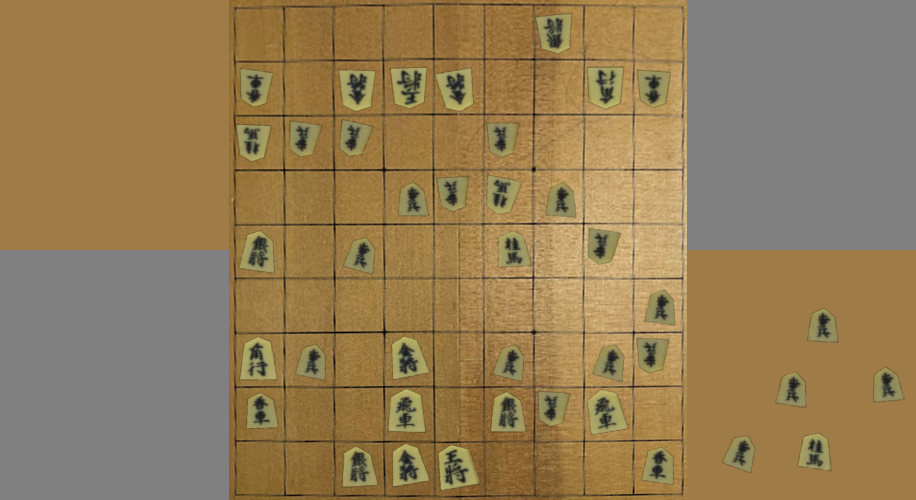A: (440, 446, 479, 489), (240, 337, 278, 381), (591, 391, 626, 433), (393, 338, 428, 379), (394, 445, 429, 486), (390, 390, 424, 431), (343, 448, 377, 486), (492, 393, 525, 431), (241, 232, 272, 272), (643, 448, 673, 484), (247, 394, 278, 428), (493, 346, 523, 381), (499, 233, 530, 266), (344, 239, 374, 273), (594, 346, 623, 381), (296, 346, 325, 380), (645, 291, 674, 325), (546, 184, 575, 217), (399, 184, 428, 216)
B: (437, 69, 472, 111), (340, 71, 374, 110), (589, 68, 622, 108), (392, 69, 425, 108), (488, 176, 521, 214), (537, 15, 570, 52), (289, 121, 322, 157), (237, 125, 270, 160), (240, 69, 271, 106), (340, 121, 372, 156), (638, 71, 669, 107), (589, 229, 619, 264), (438, 177, 468, 211), (539, 392, 569, 425), (638, 339, 668, 372), (489, 124, 517, 156)
C: (799, 434, 830, 470), (723, 437, 754, 472), (777, 373, 806, 407), (810, 310, 836, 342), (879, 371, 896, 400)
